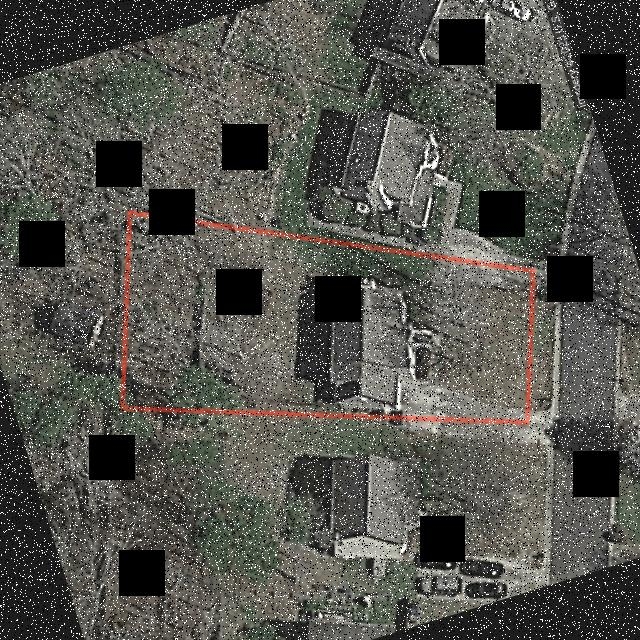Driveway: (403, 383, 522, 418)
Extra Driveway: (529, 408, 557, 423)
Extra Lawn: (533, 288, 552, 411)
Extra Sidewalk: (549, 273, 561, 408), (535, 270, 555, 290)
House: (327, 277, 415, 410)
